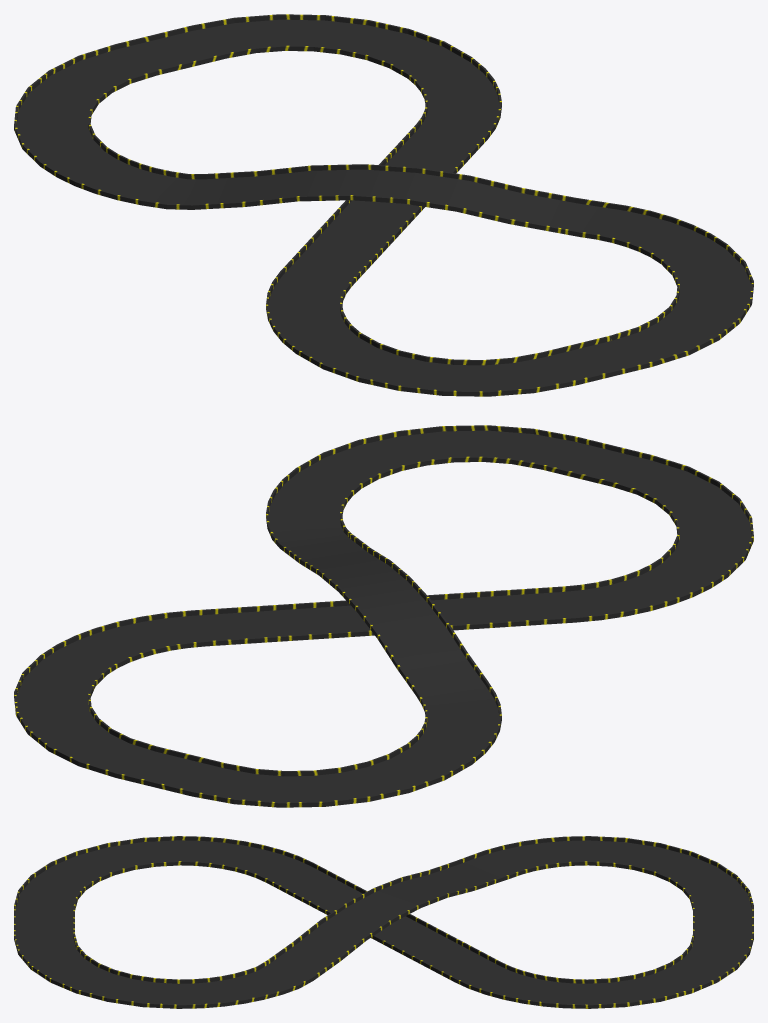
Rendered from Racetrack_Textur.fbx.
3 renders of one model, top to bottom at view 1: azimuth 30°, elevation 25°; view 2: azimuth 150°, elevation 25°; view 3: azimuth 270°, elevation 25°, orthographic. The views are drawn at different scales.
Parts seen in each view (by area): view 1: Box001; view 2: Box001; view 3: Box001.
Boxes of the visible parts, x1=… form: Box001: x1=14, y1=14, x2=753, y2=396; Box001: x1=14, y1=425, x2=753, y2=807; Box001: x1=14, y1=836, x2=753, y2=1008.
Bounding box in the file's own units: 118 × 6.79 × 218.
Materials: 1 (1 with a texture image).
